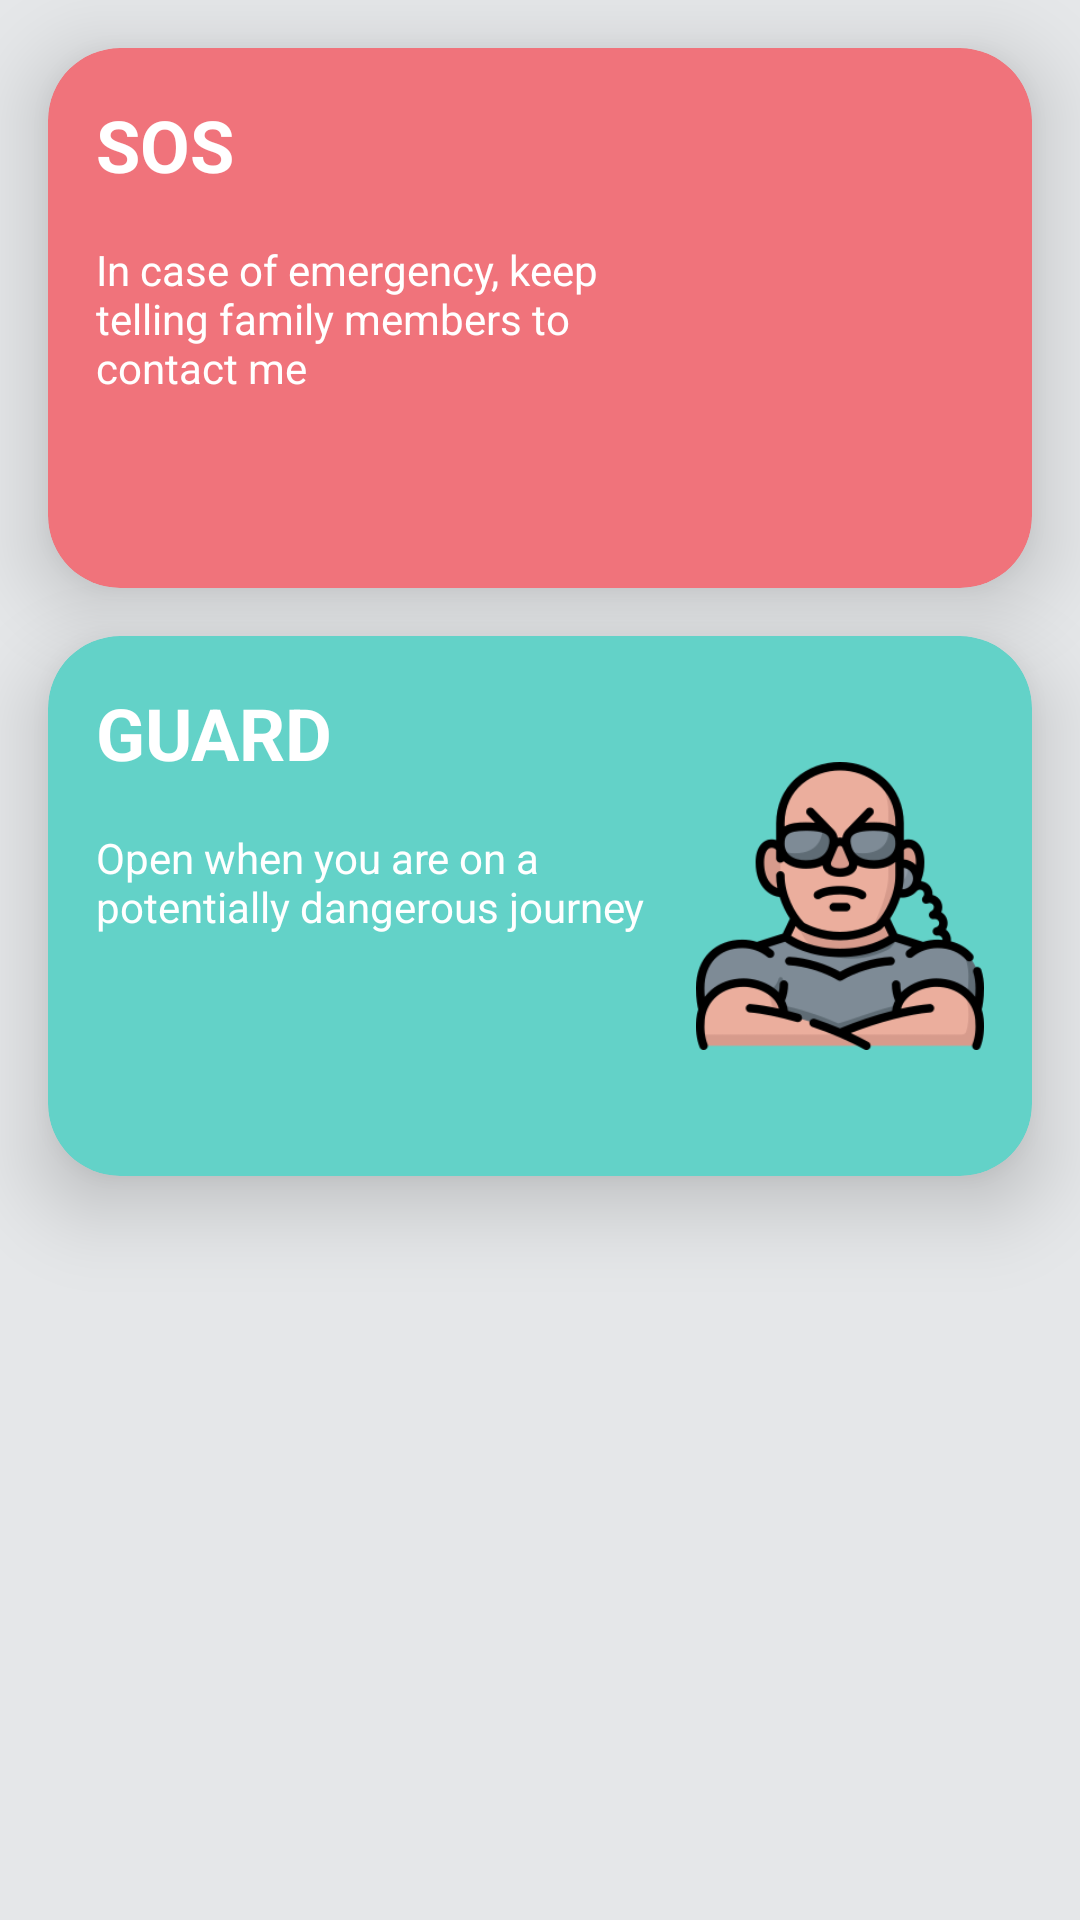

Named icons in this screenshot (1080px x 1920px) and their bounding boxes, (x1, y1, x2, y2):
guard: (696, 762, 984, 1050)
